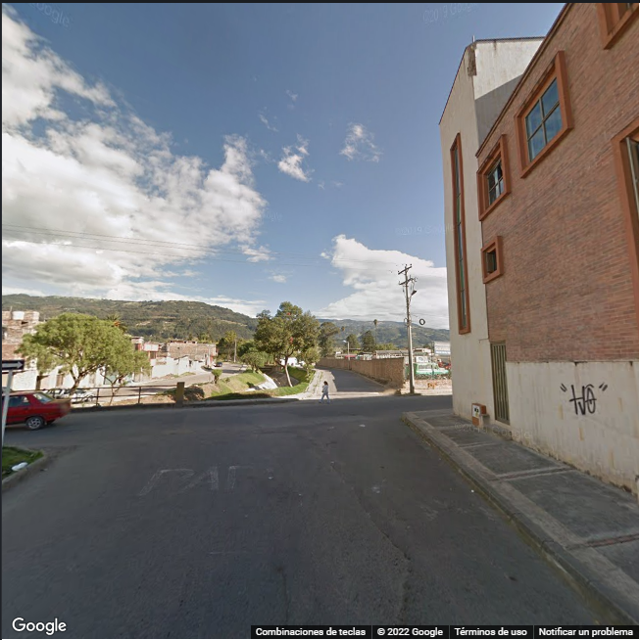D00: (168, 557, 196, 637), (278, 557, 296, 632)
